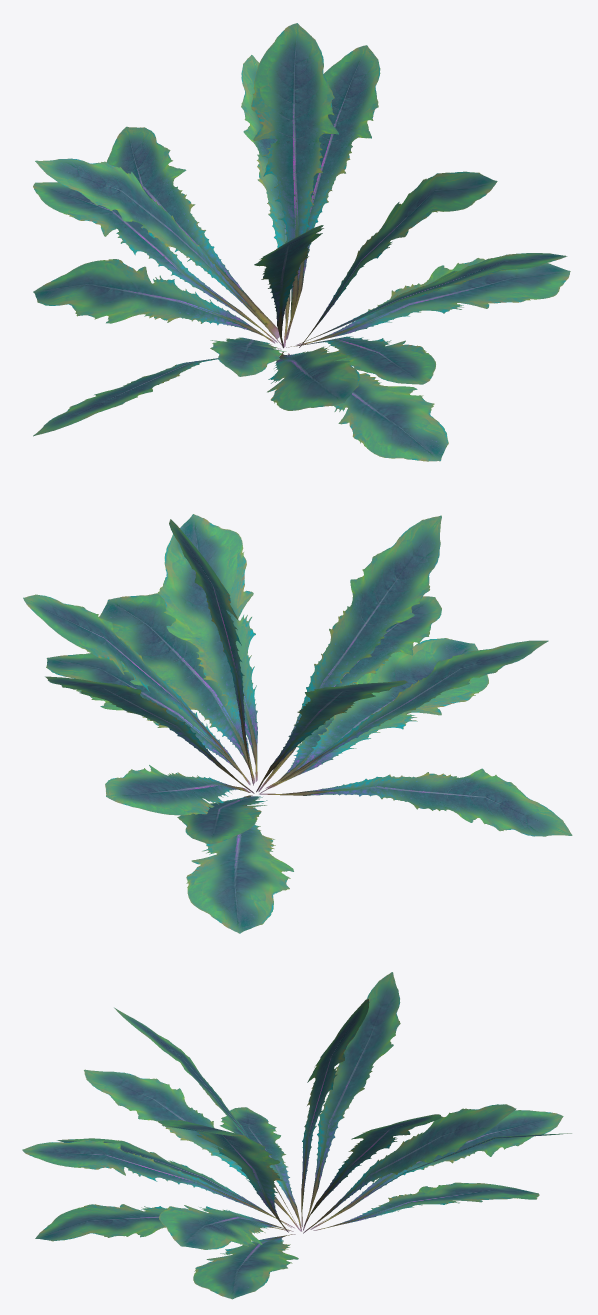
Rendered from GroundPlant01.fbx.
3 views of the same model, one above another, from view 1: azimuth 30°, elevation 25°; view 2: azimuth 150°, elevation 25°; view 3: azimuth 270°, elevation 25° (orthographic). The views are drawn at different scales.
Visible parts, largest first — view 1: Leaf2; view 2: Leaf2; view 3: Leaf2.
Part boxes in pixels (x1=…): Leaf2: x1=33, y1=23, x2=570, y2=461; Leaf2: x1=23, y1=514, x2=572, y2=933; Leaf2: x1=22, y1=972, x2=571, y2=1299.
Size of the model in its own units: 364 by 198 by 373.
